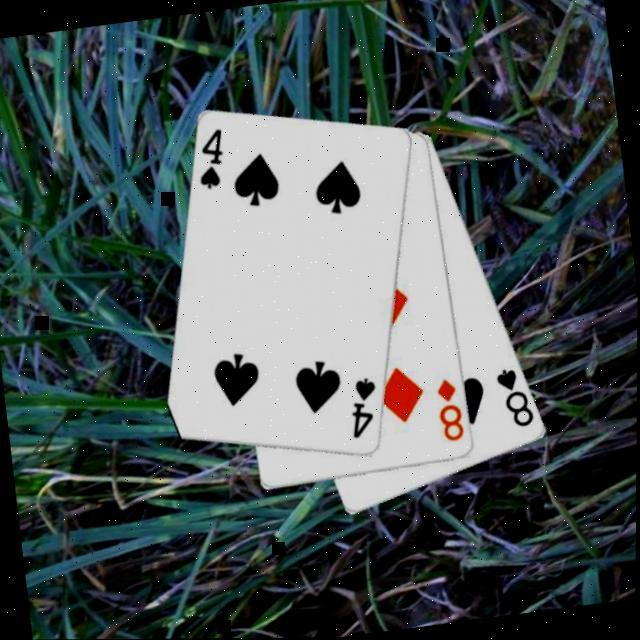4S: (190, 126, 232, 196), (343, 375, 384, 443)
8D: (432, 376, 468, 446)
8S: (491, 364, 538, 434)
